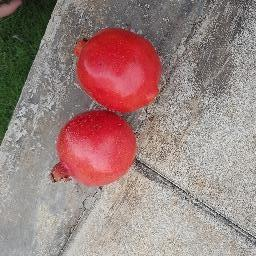pomegranate: (73, 27, 163, 111), (48, 110, 139, 187)
